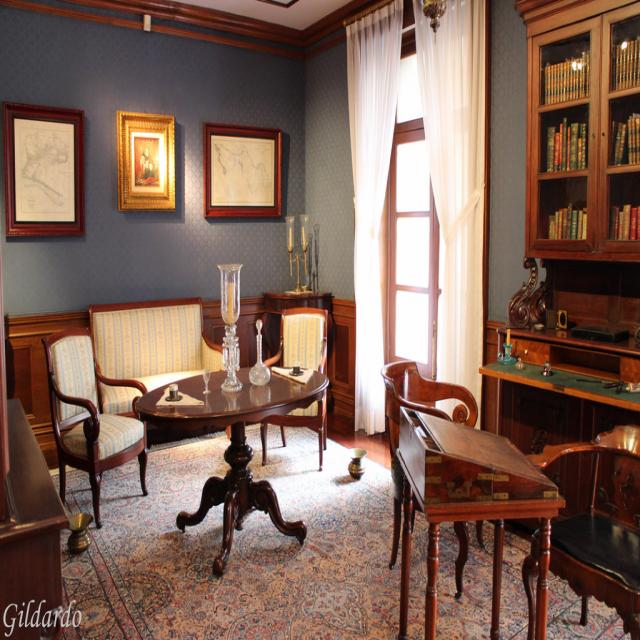chair: (388, 387, 563, 636), (522, 438, 640, 637), (381, 360, 480, 570), (43, 332, 149, 526), (257, 308, 330, 472)
desk: (398, 403, 566, 620)
